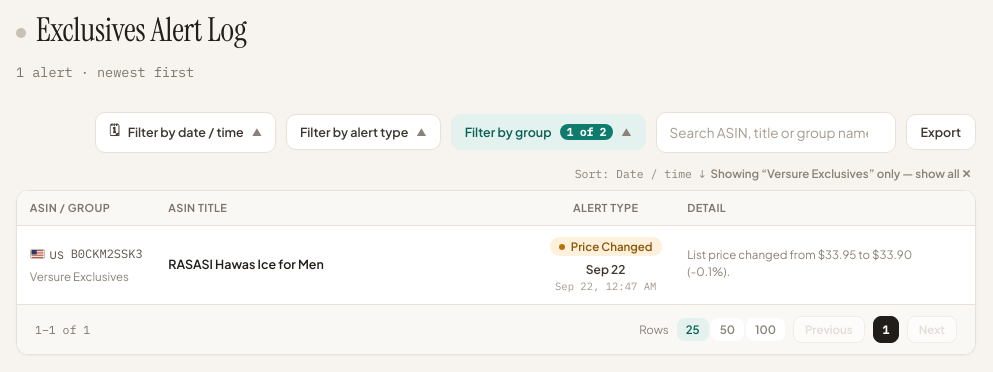
ExclusivesLogPage › clears the group filter from the chip
The image size is (993, 372).
Click the button "Showing “Versure Exclusives” only — show all ✕": [841, 173] box [706,164,976,182]
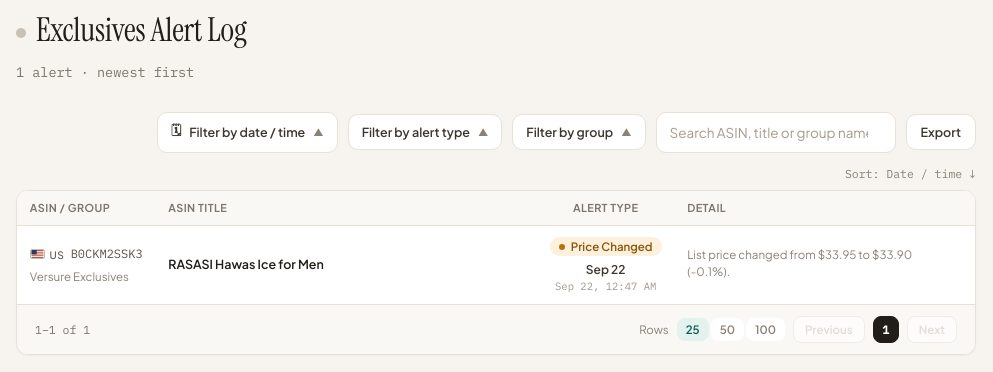
Check: the button "Showing “Versure Exclusives” only" is gone
